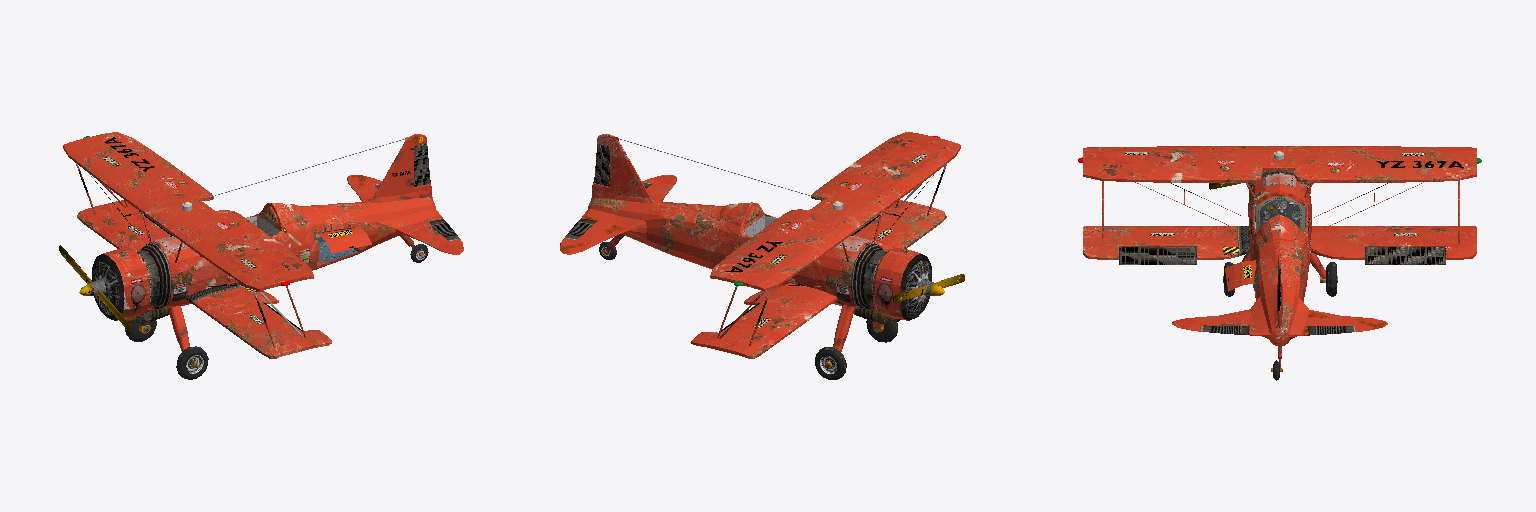
The picture shows the model from 3 angles: view 1: azimuth 30°, elevation 25°; view 2: azimuth 150°, elevation 25°; view 3: azimuth 270°, elevation 25°; orthographic projection.
Visible parts, largest first — view 1: biplano_last:pCylinder32, flaps_biplane_last:pCube7 polySurface5, prop_biplane_last:polySurface27, polySurface1 wheels_biplane_last:polySurface7, flaps_biplane_last:pCube7 polySurface6; view 2: biplano_last:pCylinder32, wheels_biplane_last:polySurface7 polySurface2, prop_biplane_last:polySurface27, flaps_biplane_last:pCube7 polySurface6; view 3: biplano_last:pCylinder32, flaps_biplane_last:pCube7 polySurface7, polySurface4 flaps_biplane_last:pCube7, flaps_biplane_last:pCube7 polySurface5.
Part boxes in pixels (bbox=[...]): biplano_last:pCylinder32: bbox=[63, 132, 463, 367]; flaps_biplane_last:pCube7 polySurface5: bbox=[316, 227, 371, 253]; prop_biplane_last:polySurface27: bbox=[59, 245, 131, 332]; polySurface1 wheels_biplane_last:polySurface7: bbox=[176, 346, 208, 379]; flaps_biplane_last:pCube7 polySurface6: bbox=[414, 143, 430, 186]; biplano_last:pCylinder32: bbox=[560, 132, 960, 368]; wheels_biplane_last:polySurface7 polySurface2: bbox=[815, 347, 846, 379]; prop_biplane_last:polySurface27: bbox=[893, 274, 964, 302]; flaps_biplane_last:pCube7 polySurface6: bbox=[593, 143, 609, 186]; biplano_last:pCylinder32: bbox=[1078, 146, 1481, 371]; flaps_biplane_last:pCube7 polySurface7: bbox=[1365, 247, 1445, 264]; polySurface4 flaps_biplane_last:pCube7: bbox=[1119, 247, 1196, 264]; flaps_biplane_last:pCube7 polySurface5: bbox=[1225, 260, 1256, 291].
Size of the model in its own units: 15.04 by 6.74 by 14.86.
Materials: 5 (4 with a texture image).